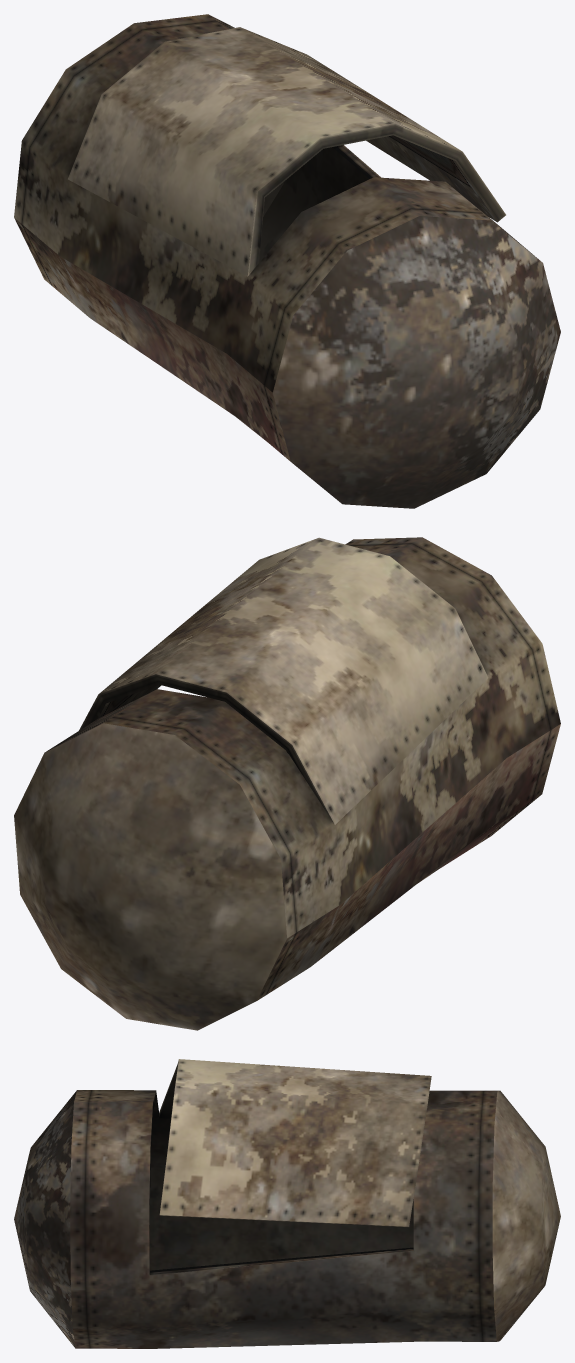
Rendered from rubble_container_2x4.dae.
3 views of the same model, one above another, from view 1: azimuth 30°, elevation 25°; view 2: azimuth 150°, elevation 25°; view 3: azimuth 270°, elevation 25° (orthographic). The views are drawn at different scales.
Parts seen in each view (by area): view 1: rubble_container_2x4; view 2: rubble_container_2x4; view 3: rubble_container_2x4.
Boxes of the visible parts, bbox=[...] form: rubble_container_2x4: bbox=[14, 14, 560, 508]; rubble_container_2x4: bbox=[14, 537, 560, 1030]; rubble_container_2x4: bbox=[14, 1059, 560, 1348].
Bounding box in the file's own units: 5.15 × 10.72 × 5.74.
Materials: 1 (1 with a texture image).
